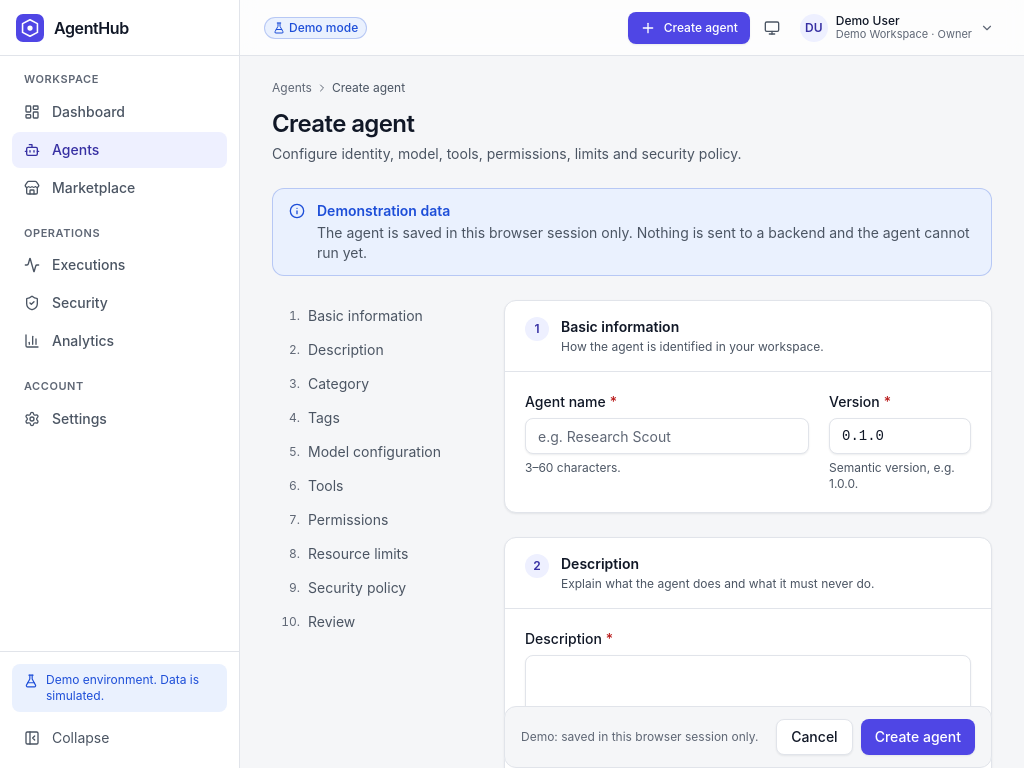
Test: create agent form › rejects invalid values and field lengths
Expected: the heading "Create agent" is shown, [272, 109, 414, 138]
Type "Bad<name>" into the field labelled "Agent name *" at {"x": 667, "y": 436}, box [525, 418, 809, 454]
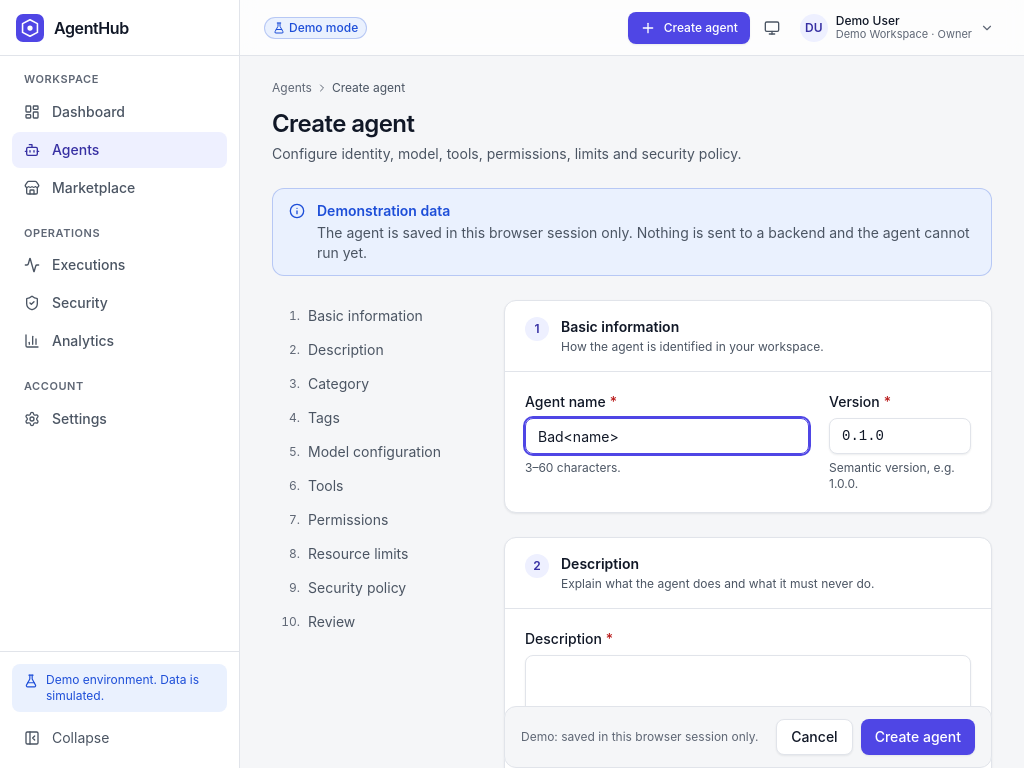
Replace the text in the field labelled "Version *" with "v1" at {"x": 900, "y": 436}, box [829, 418, 971, 454]
(page scrolled)
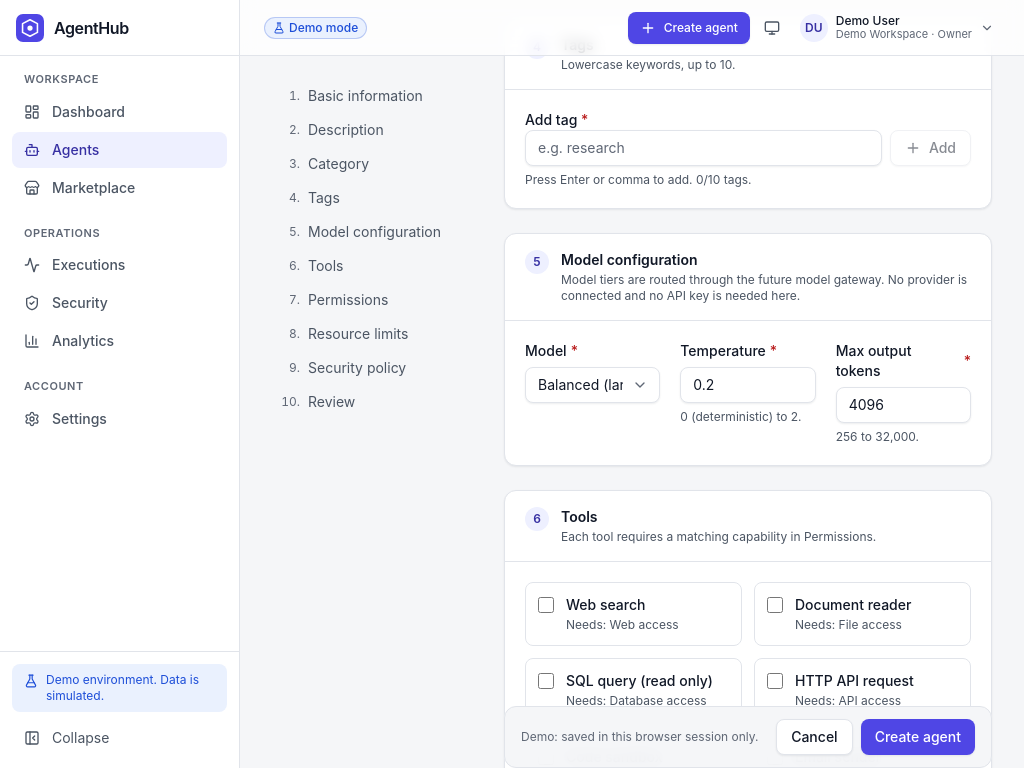
Clear the number field labelled "Temperature *" at {"x": 748, "y": 385}, box [680, 367, 816, 403]
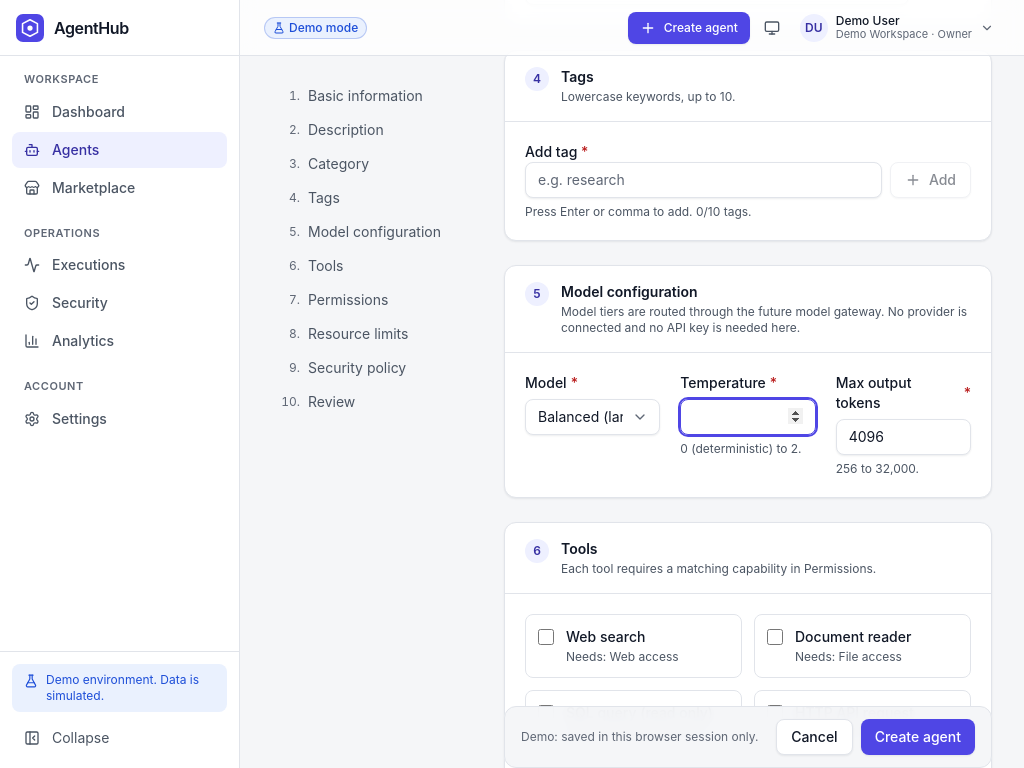
Type "5" into the number field labelled "Temperature *" at {"x": 748, "y": 417}, box [680, 399, 816, 435]
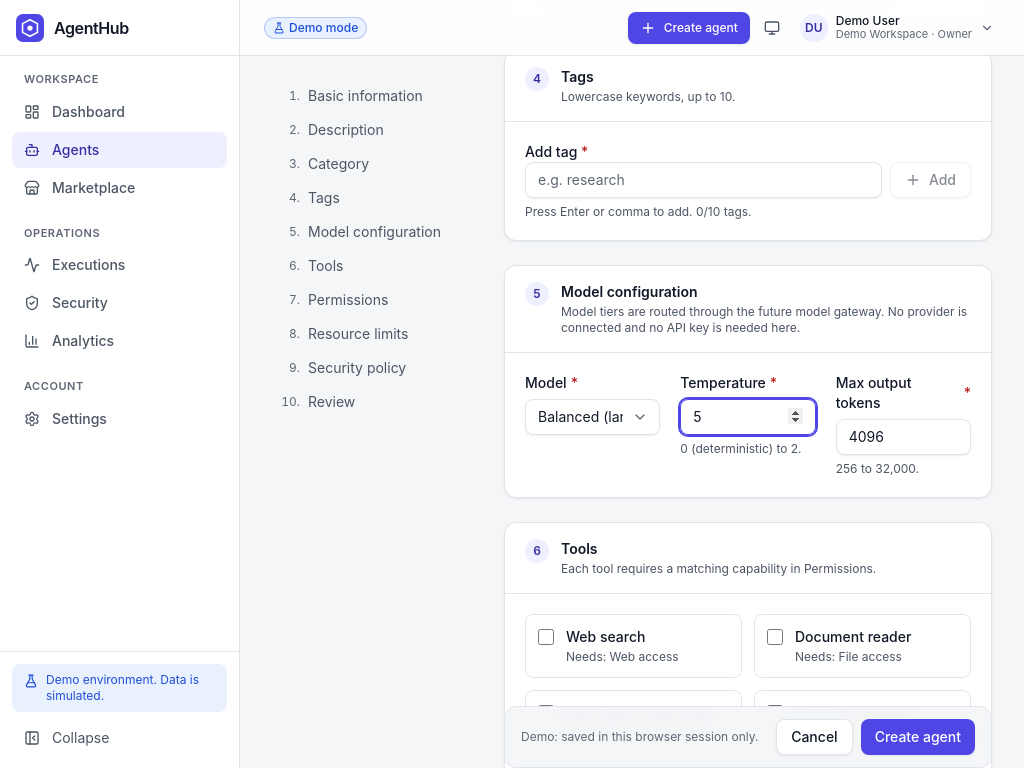
Click the button "Create agent" at {"x": 918, "y": 737}, box [861, 719, 975, 755]
(page scrolled)
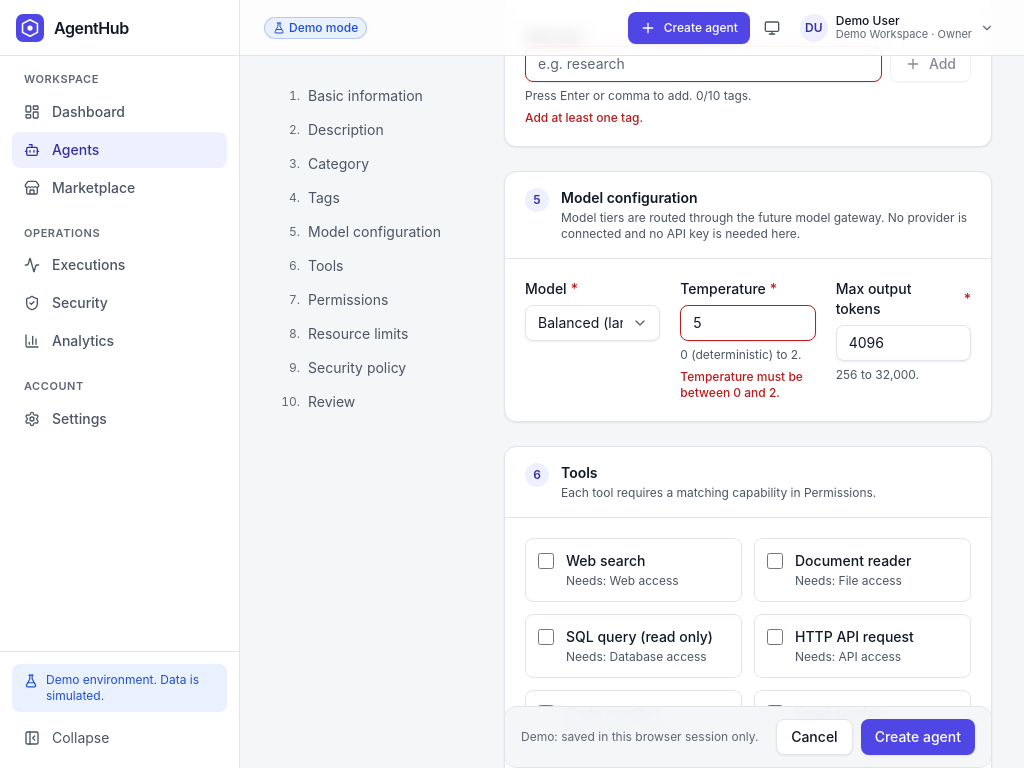
Now the text "Temperature must be between 0 and 2." is shown, box [680, 369, 816, 401]
